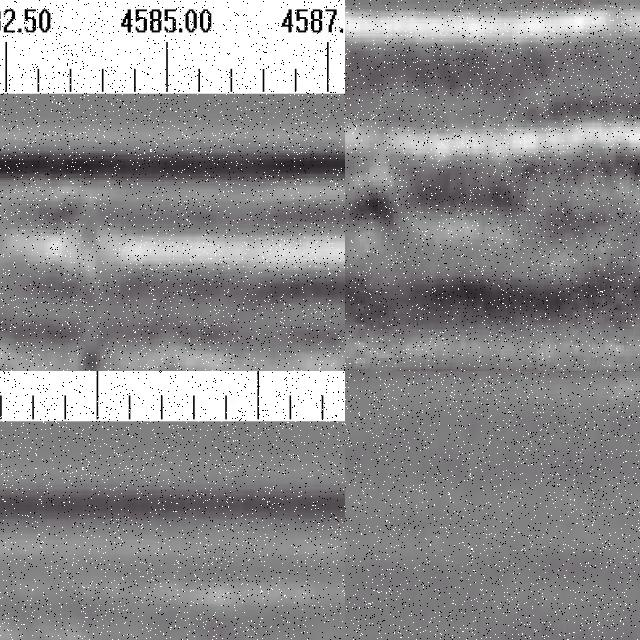crack: (61, 180, 109, 372)
